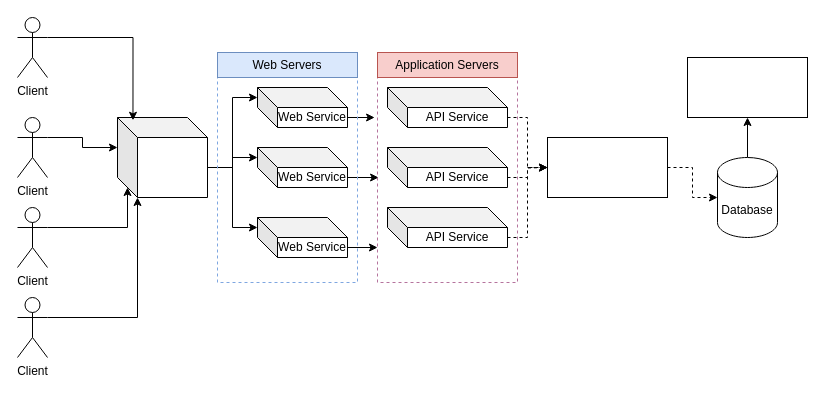
Image size: 825x396. Some labels were removed from this diagram. The centre of each missing label's shape, as x and y in pixels:
Authentication and Security System: pixel 747 87
Balanceador de carga: pixel 162 157
Queue system: pixel 607 167
